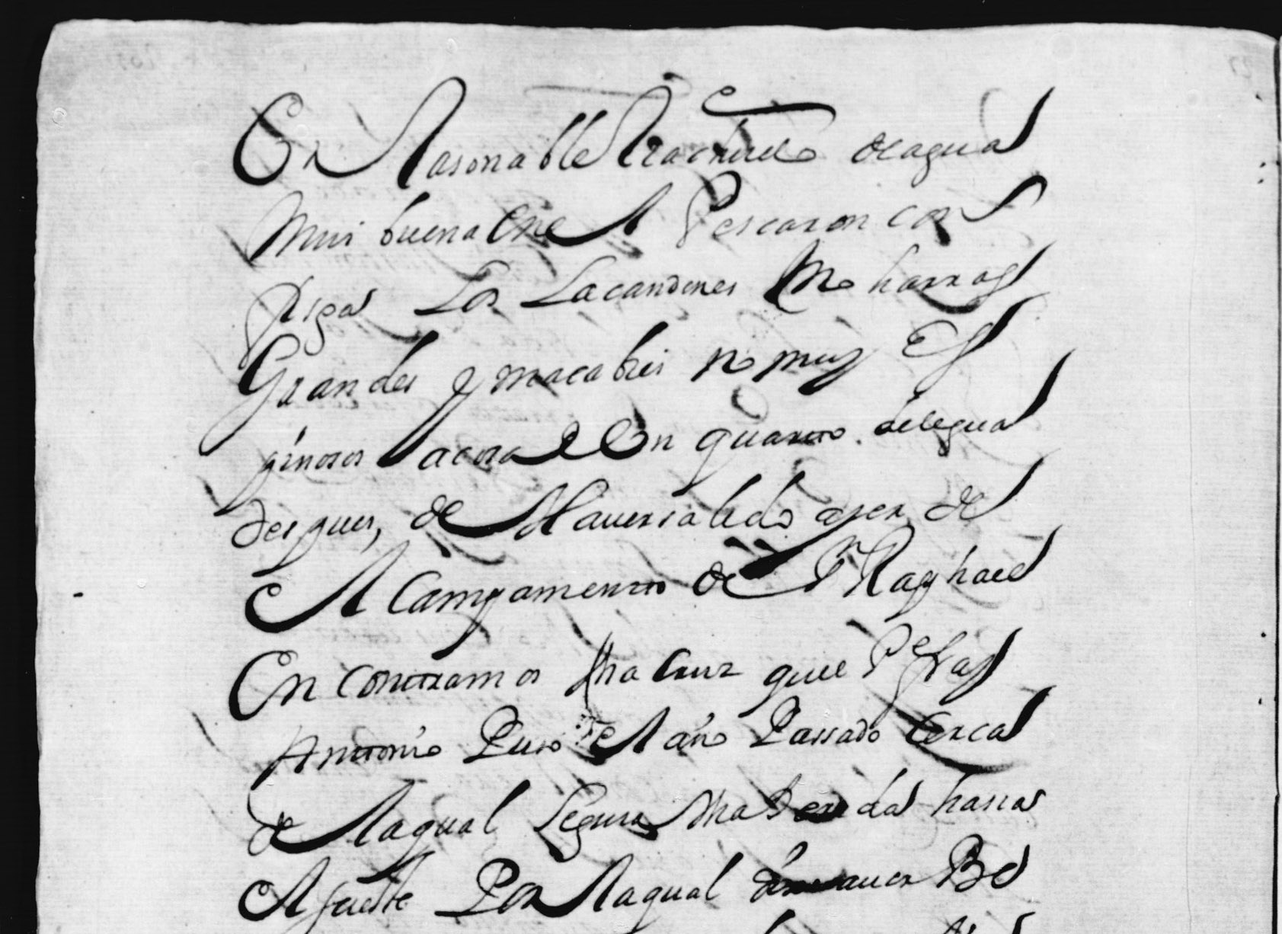lacandon: (520, 255, 737, 308)
